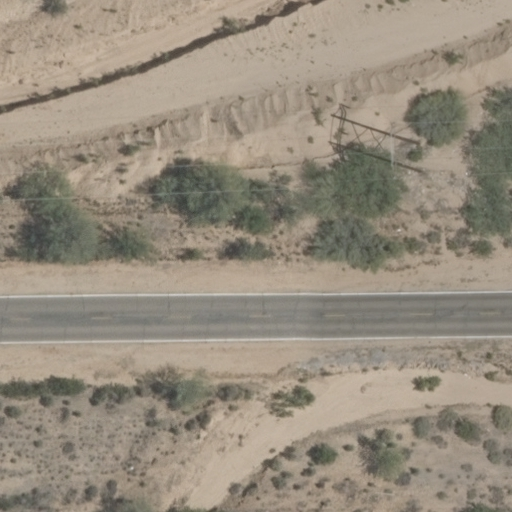DT: (382, 115, 429, 186)
